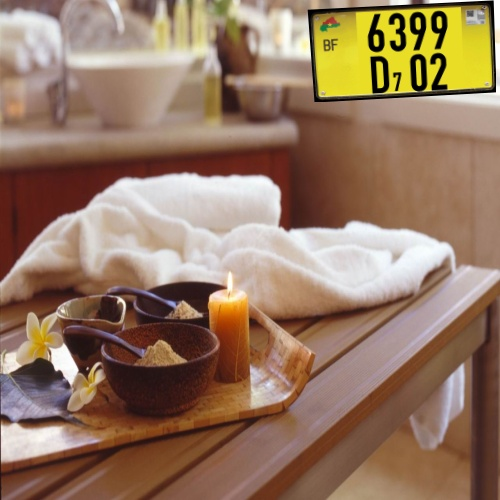plate: (303, 3, 500, 124)
